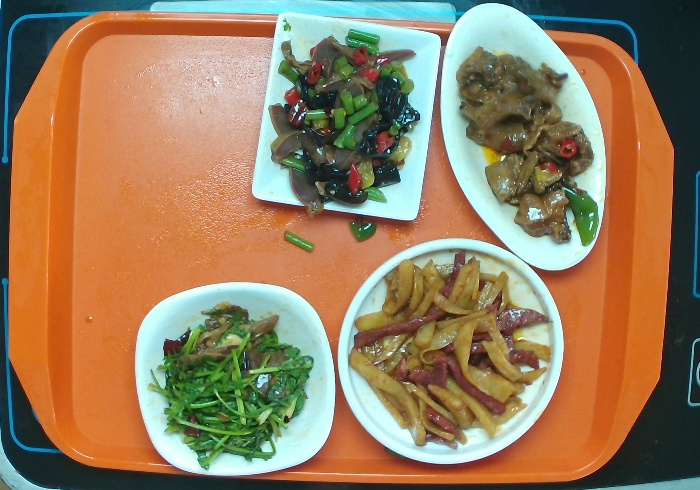HZYJPL-Si_Fang_Die: (250, 8, 444, 223)
HZYJPL-Si_Fang_Yuan_Die: (132, 279, 338, 479)
HZYJPL-Xiao_Yu_Die: (438, 1, 610, 274)
HZYJPL-Xiao_Yuan_Die: (336, 237, 566, 469)
